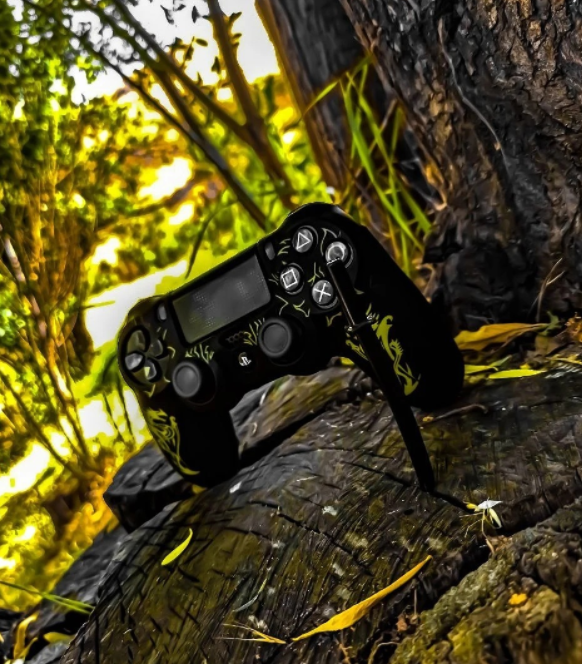gamingconsole: (118, 203, 466, 482)
